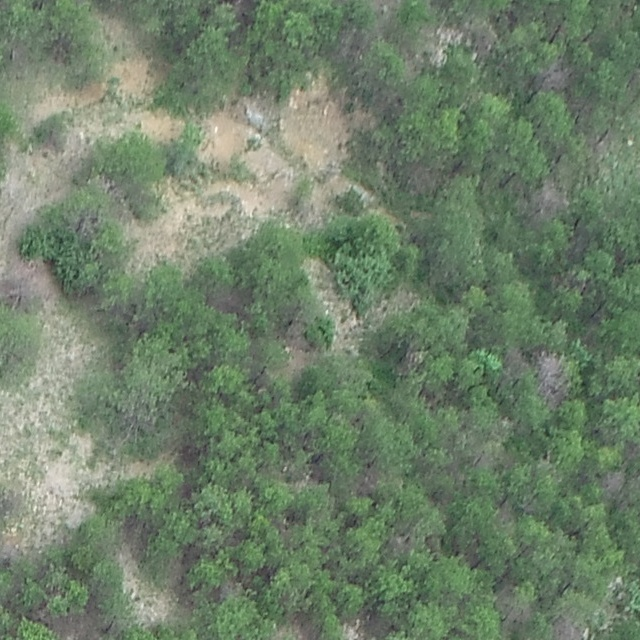unhealthy: (0, 257, 55, 307), (533, 347, 567, 404), (528, 176, 571, 220), (535, 60, 577, 91), (470, 21, 497, 59), (599, 468, 628, 500), (503, 345, 529, 378), (397, 345, 426, 374)
